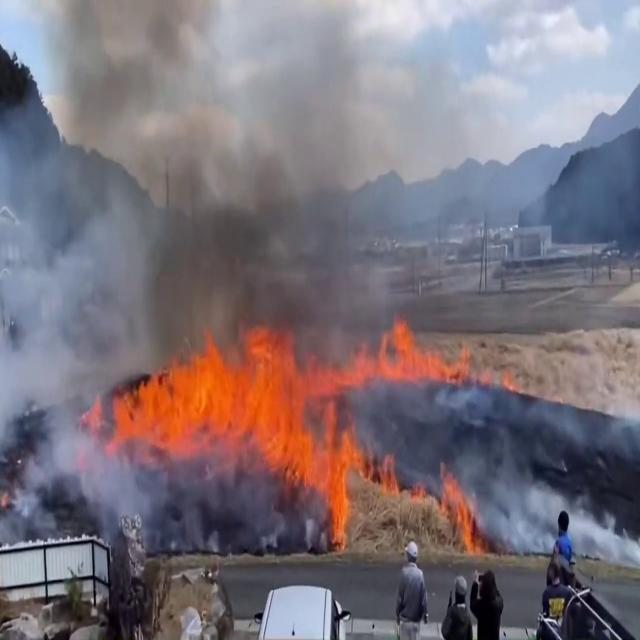Fire: (106, 322, 344, 495), (305, 424, 473, 570), (364, 304, 467, 386)
Smoke: (10, 0, 427, 348)
